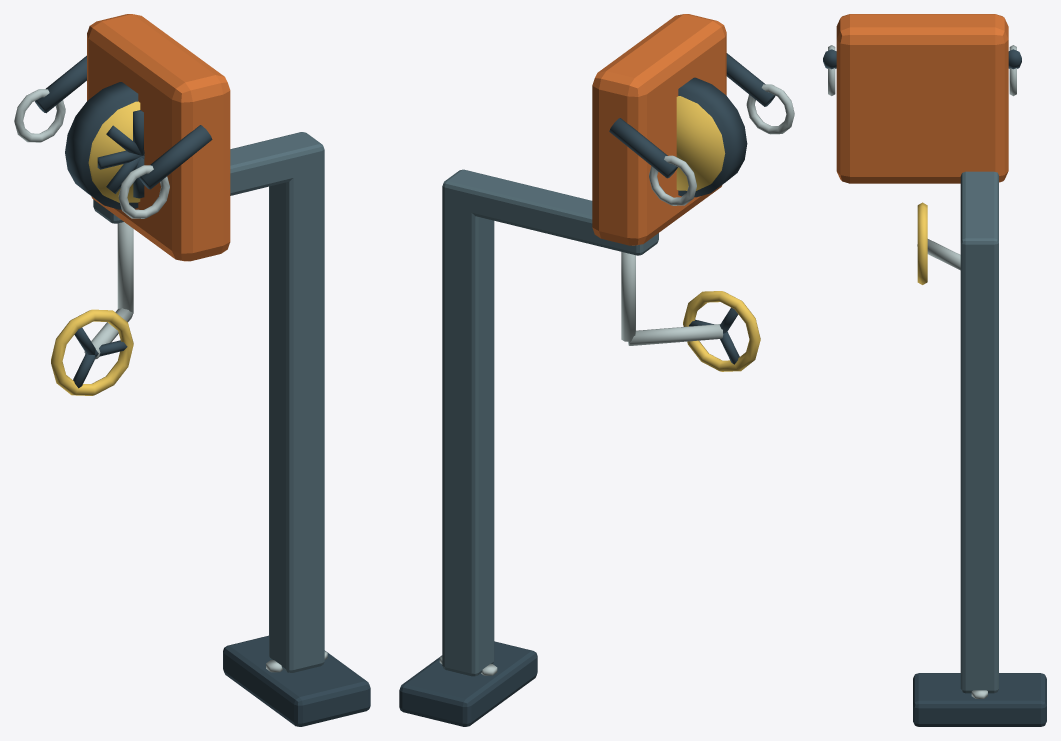
Rendered from lift-transmission.glb.
3 views of the same model, side by side, from view 1: azimuth 30°, elevation 25°; view 2: azimuth 150°, elevation 25°; view 3: azimuth 270°, elevation 25° (orthographic). The views are drawn at different scales.
Visible parts, largest first — view 1: tyaga-lift-transmission-surface, upper-control-hardware-surface, lift-drum-surface; view 2: tyaga-lift-transmission-surface, upper-control-hardware-surface, lift-drum-surface; view 3: tyaga-lift-transmission-surface, upper-control-hardware-surface.
Boxes of the visible parts, left/top/right/bottom form: tyaga-lift-transmission-surface: left=14, top=14, right=370, bottom=726; upper-control-hardware-surface: left=51, top=222, right=133, bottom=395; lift-drum-surface: left=88, top=101, right=144, bottom=202; tyaga-lift-transmission-surface: left=399, top=14, right=794, bottom=726; upper-control-hardware-surface: left=621, top=252, right=760, bottom=371; lift-drum-surface: left=676, top=96, right=725, bottom=190; tyaga-lift-transmission-surface: left=823, top=14, right=1046, bottom=726; upper-control-hardware-surface: left=917, top=202, right=960, bottom=284.
Bounding box in the file's own units: 0.667 × 1.43 × 0.468.
